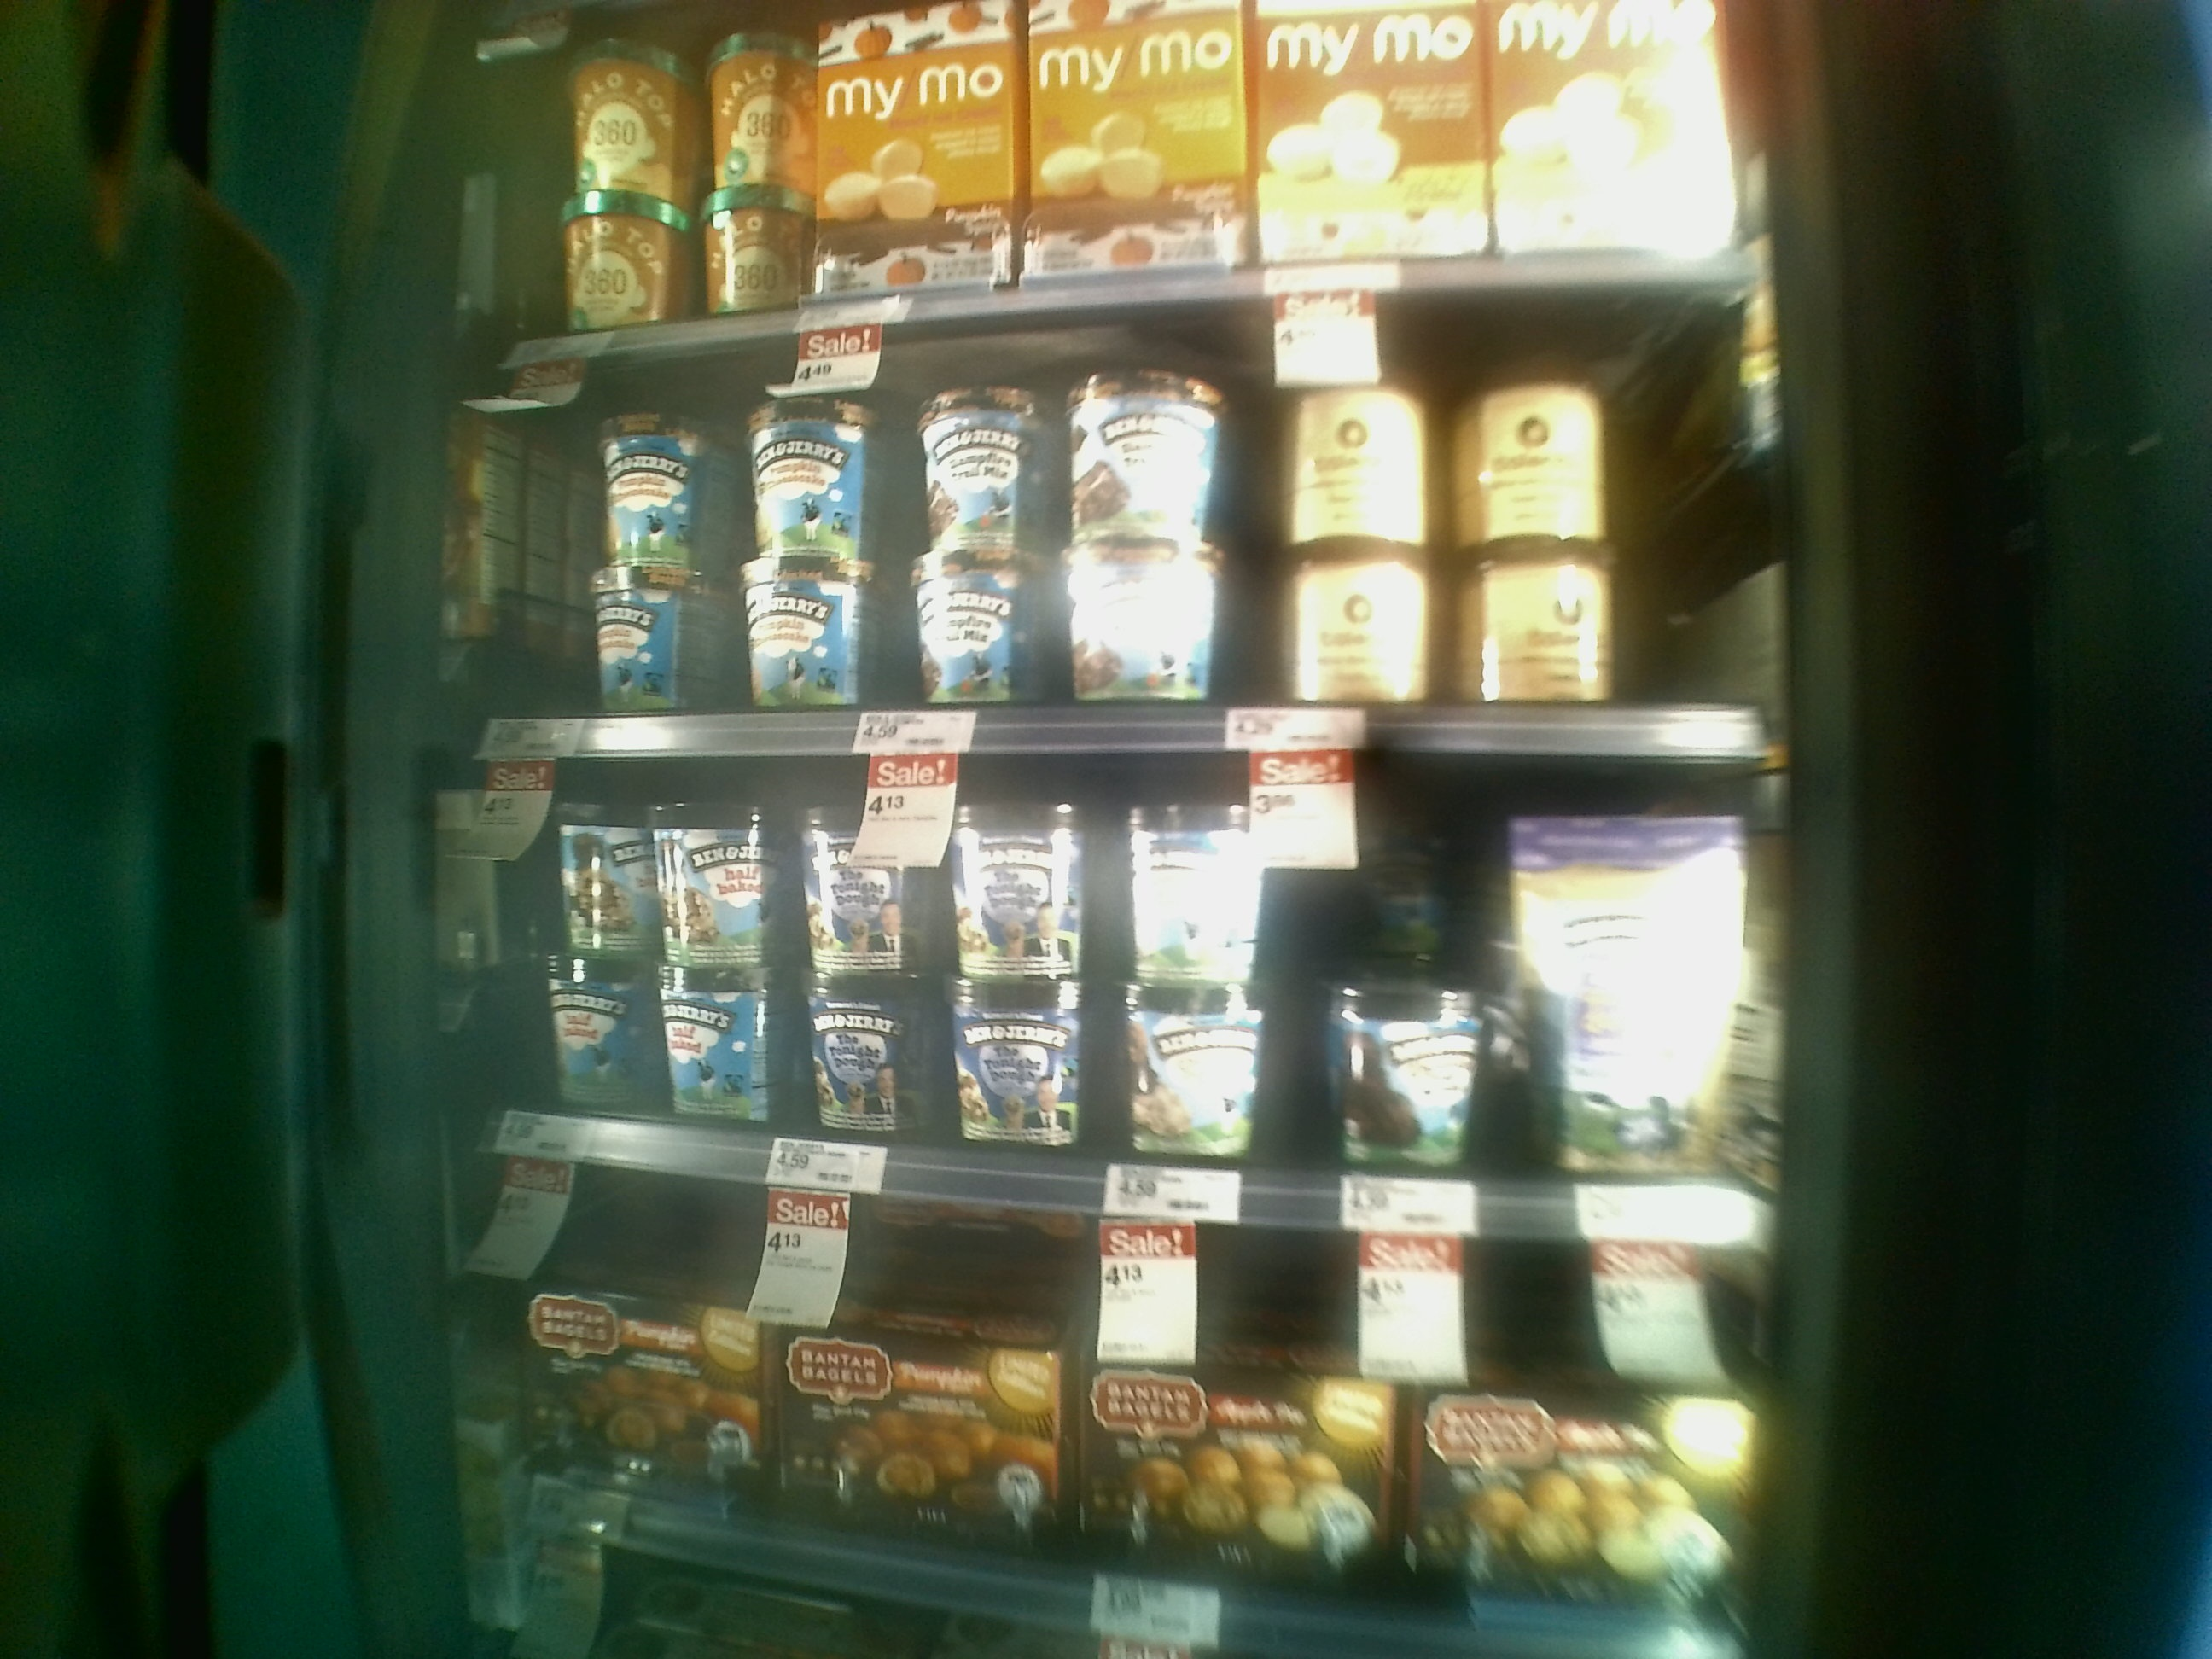shelf: (439, 742, 1780, 1265), (456, 329, 1801, 760)
